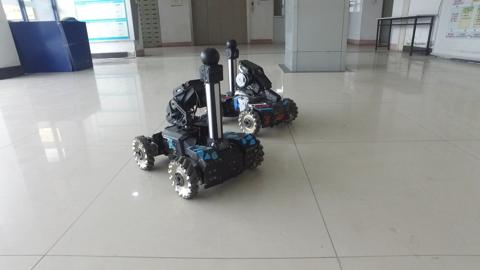chariot: (132, 45, 266, 203), (209, 38, 295, 142)
